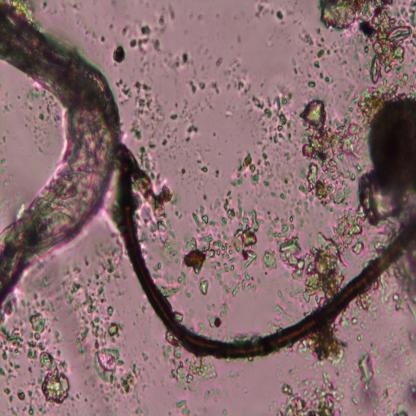Background material: (318, 1, 413, 85), (263, 214, 342, 301), (298, 102, 365, 202), (155, 220, 234, 288), (74, 306, 122, 388), (62, 241, 120, 308), (222, 191, 257, 294), (380, 318, 416, 414), (17, 78, 61, 156), (270, 372, 344, 416), (22, 284, 68, 346), (357, 168, 409, 222), (346, 276, 392, 336), (262, 146, 301, 215), (253, 82, 293, 148), (0, 302, 25, 405), (164, 344, 219, 390), (303, 324, 353, 368), (133, 162, 172, 216), (154, 100, 198, 147), (132, 78, 163, 142), (36, 350, 70, 407), (352, 346, 378, 408), (217, 56, 253, 98), (233, 150, 270, 188), (181, 68, 230, 94), (339, 207, 364, 255), (163, 38, 197, 72), (127, 23, 164, 54), (189, 193, 217, 233), (25, 312, 47, 362), (306, 51, 334, 88), (255, 2, 285, 30), (76, 18, 106, 46), (207, 297, 232, 330), (118, 362, 142, 395), (283, 46, 306, 77), (140, 137, 156, 178), (153, 0, 177, 25), (195, 159, 220, 182), (116, 75, 131, 106), (403, 381, 416, 409), (300, 29, 315, 50), (114, 43, 126, 66), (176, 396, 190, 415), (228, 33, 243, 45), (199, 279, 209, 296)
Cellulose filter fibre: (0, 0, 121, 306)
Diatom: (369, 93, 416, 186)
Natural material: (115, 144, 416, 360)
